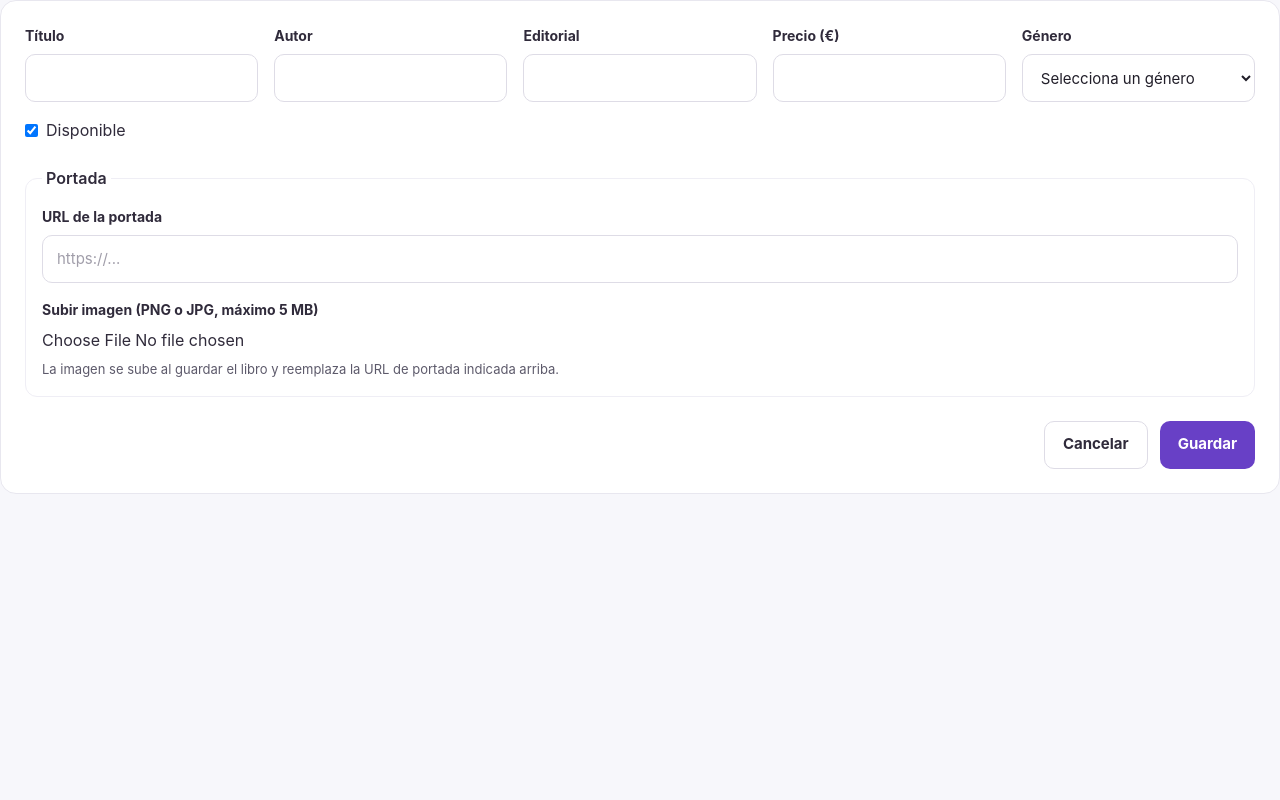
Test: BookForm › create mode › keeps the user input and shows an inline banner when the API fails
Type "Dune" into the field labelled "Título" at (142, 78), box [25,54,258,102]
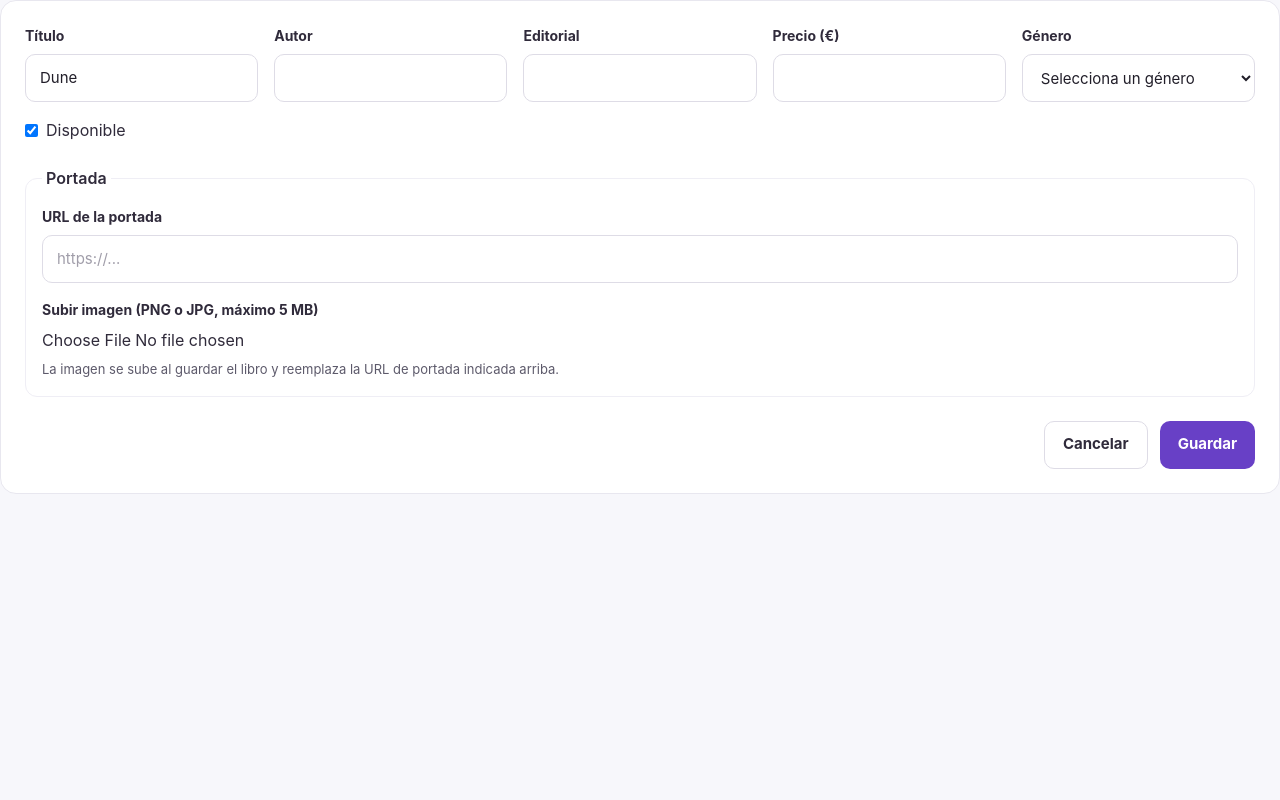
Type "Frank Herbert" into the field labelled "Autor" at (391, 78), box [274,54,507,102]
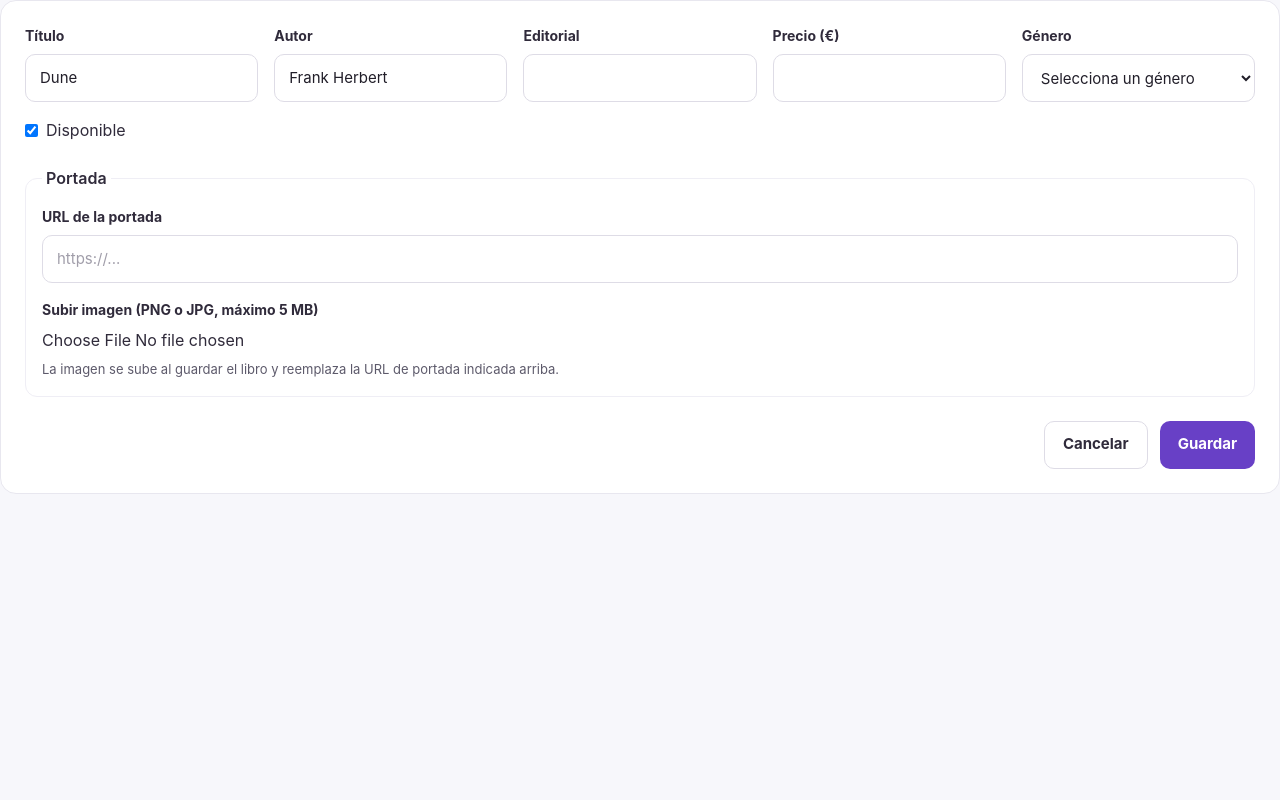
Type "Nova" into the field labelled "Editorial" at (640, 78), box [523,54,757,102]
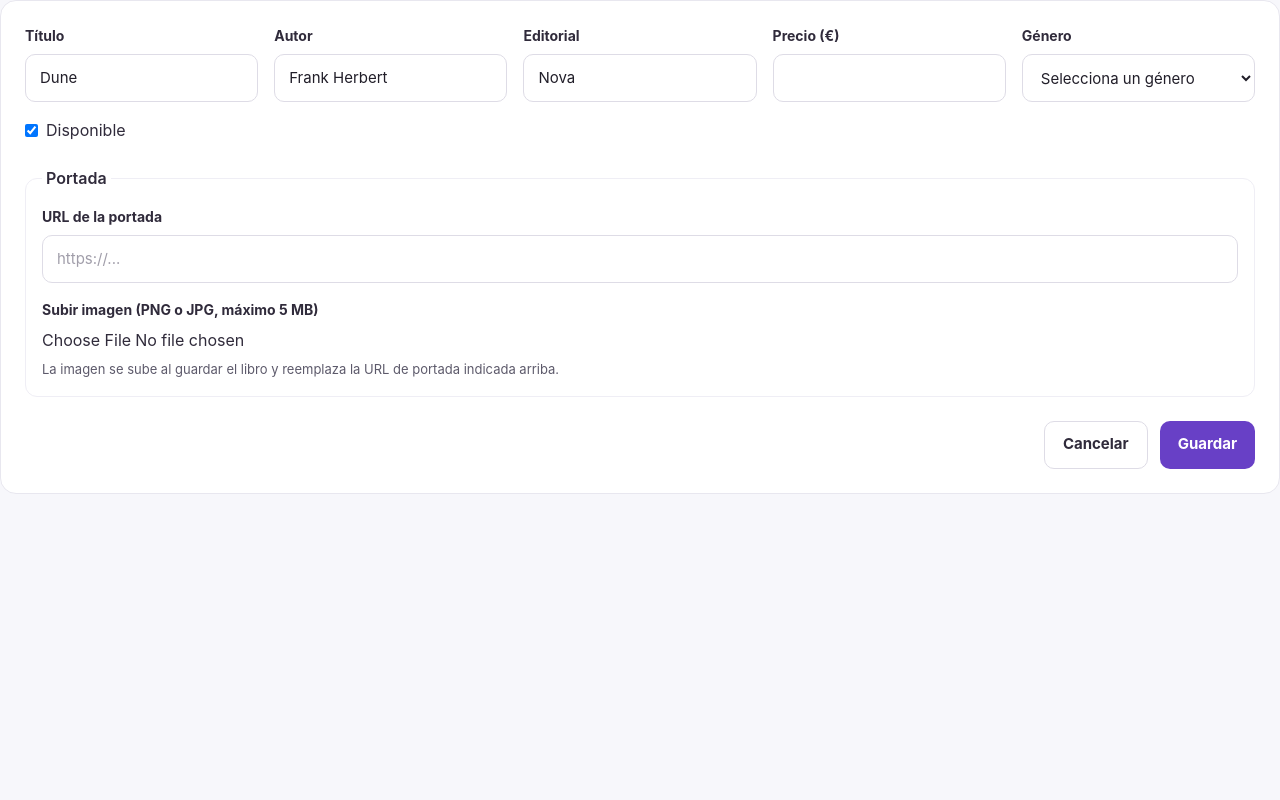
Type "24.5" into the number field labelled "Precio (€)" at (889, 78), box [773,54,1006,102]
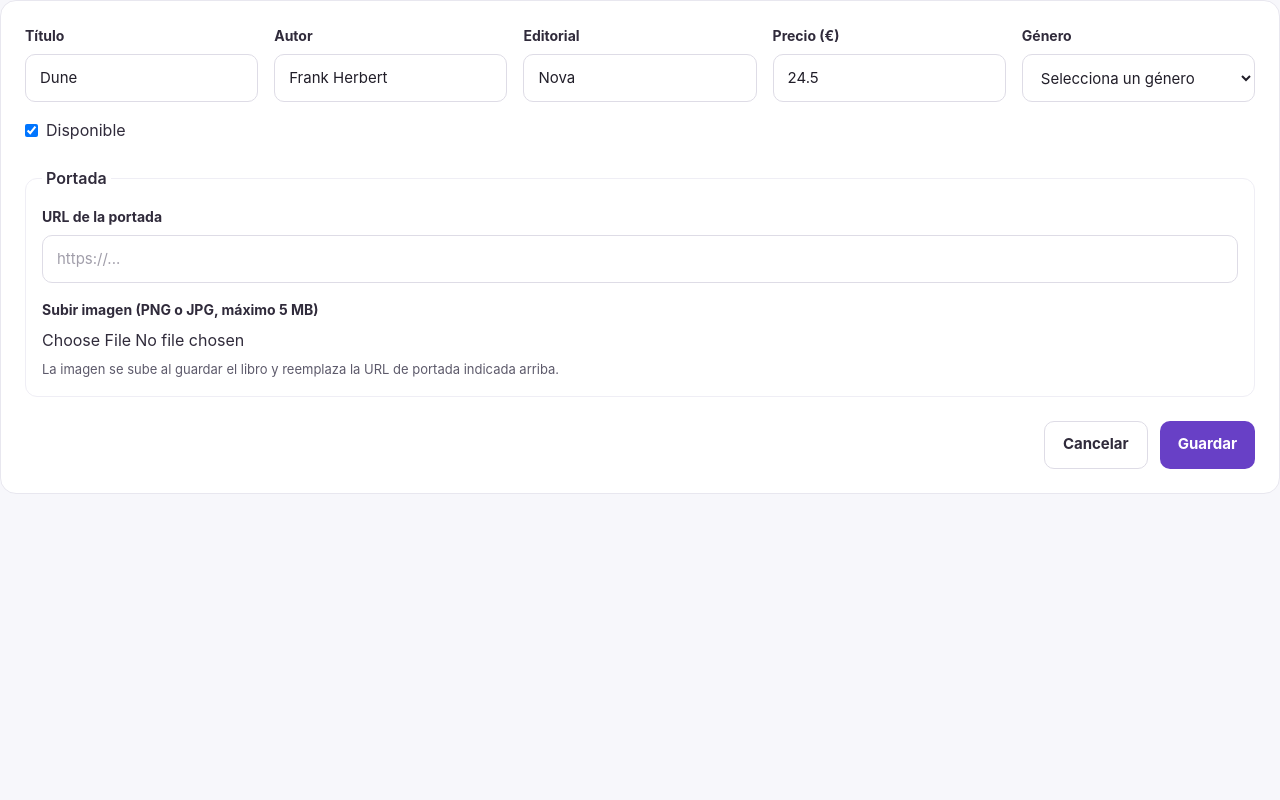
Select "Science Fiction" in the dropdown labelled "Género" at (1138, 78), box [1022,54,1255,102]
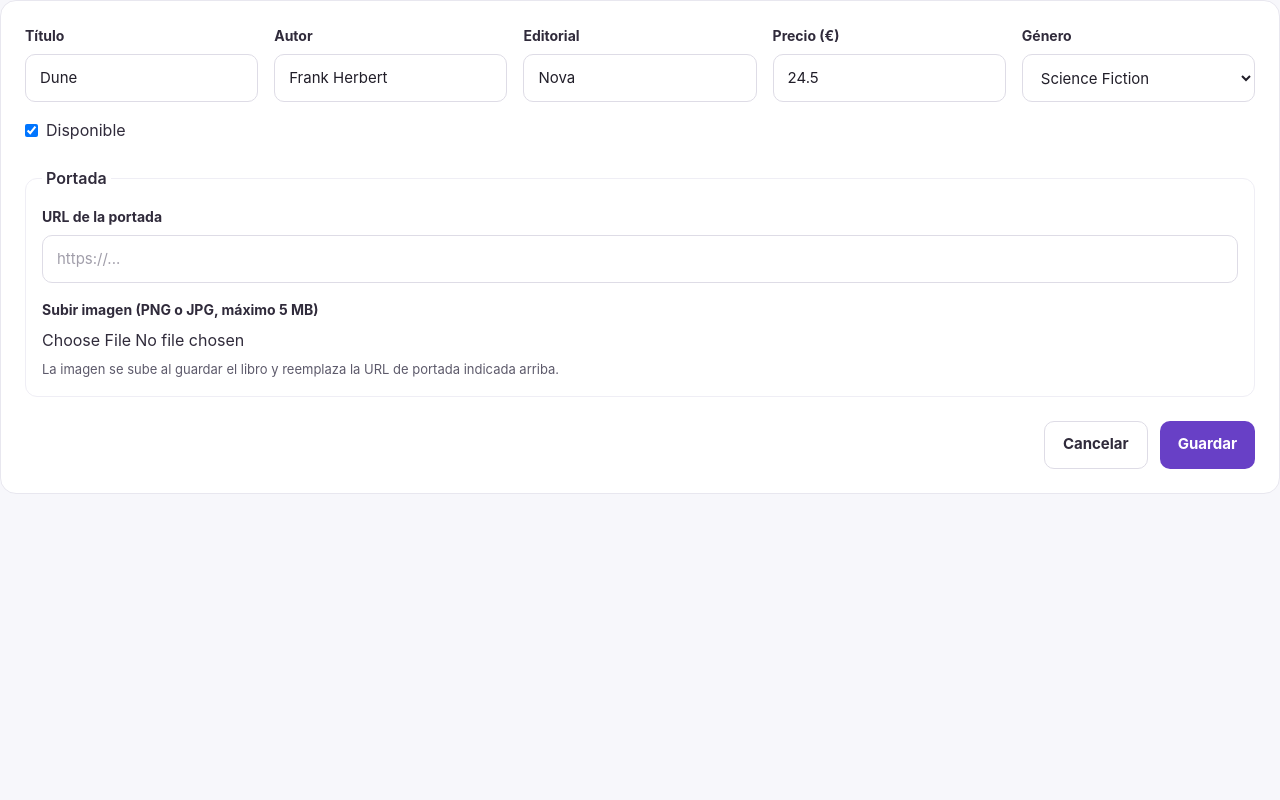
Click the button "Guardar" at (1207, 444), box [1160,420,1255,468]
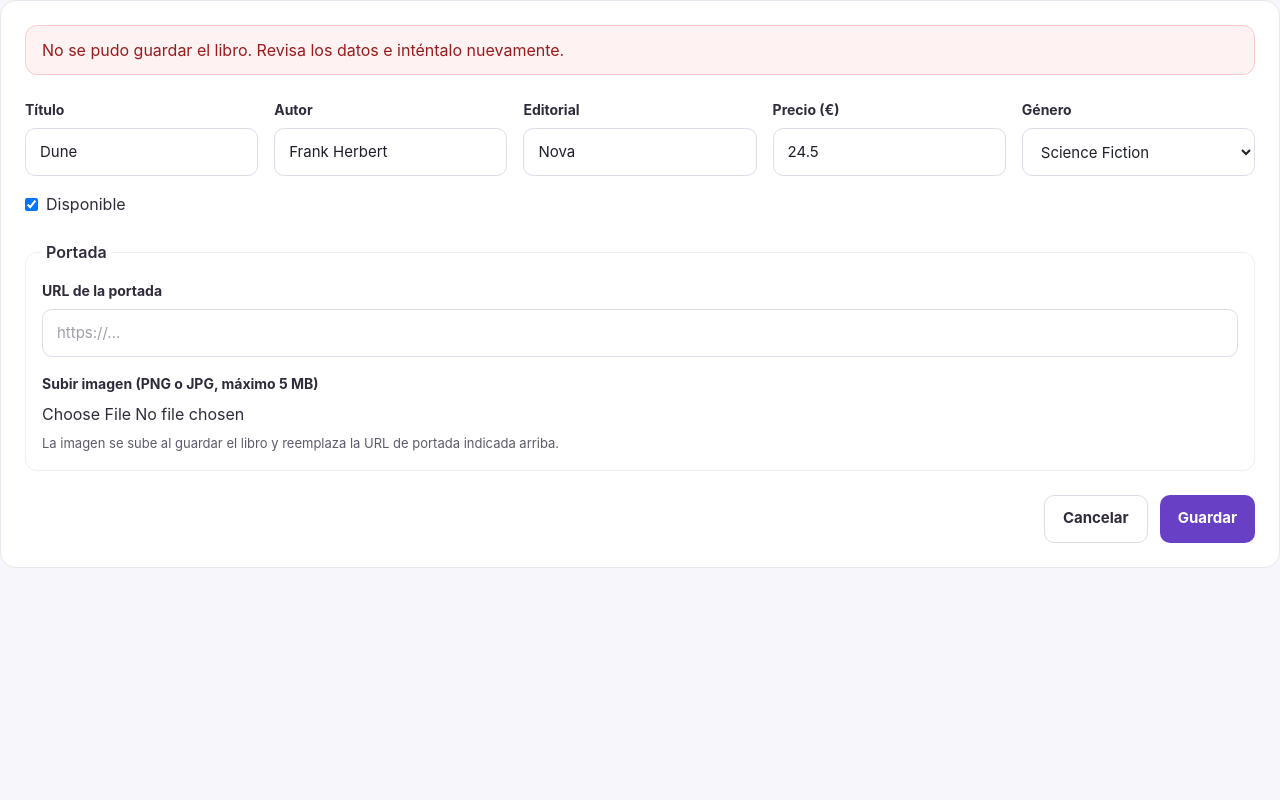
Check: the message shows "No se pudo guardar el libro", box [42,40,564,60]
